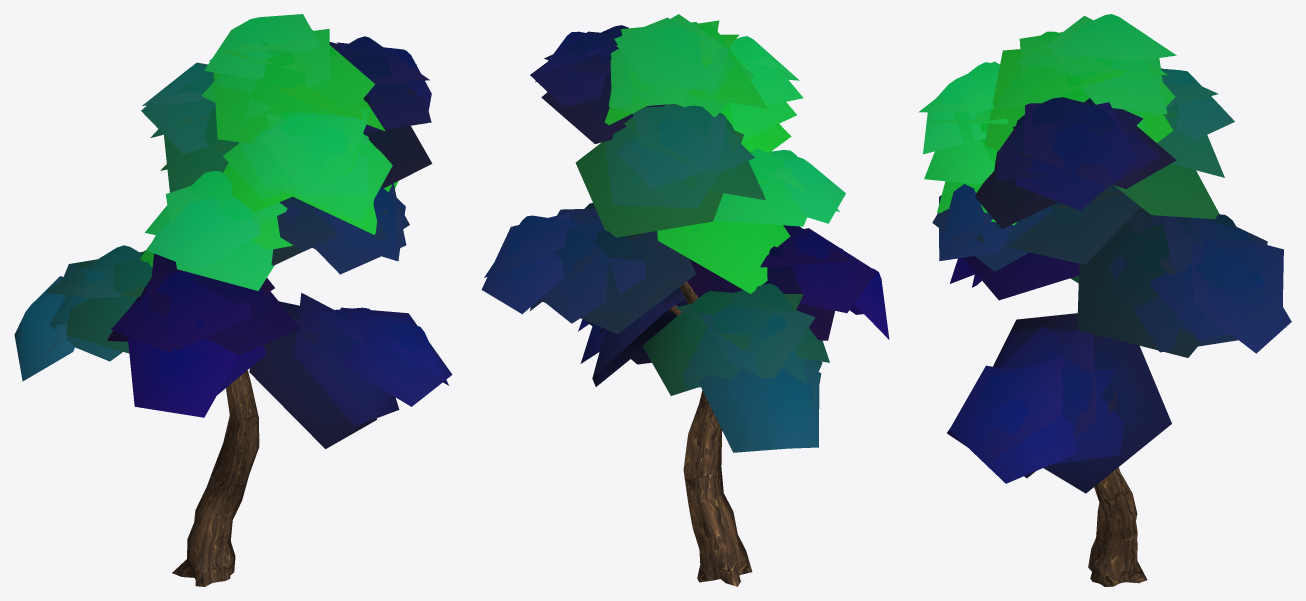
File: FantasyTree15.fbx
3 views of the same model, side by side, from view 1: azimuth 30°, elevation 25°; view 2: azimuth 150°, elevation 25°; view 3: azimuth 270°, elevation 25° (orthographic). The views are drawn at different scales.
Parts seen in each view (by area): view 1: fantasyleaf4_alpha_1, tree2_0; view 2: fantasyleaf4_alpha_1, tree2_0; view 3: fantasyleaf4_alpha_1, tree2_0.
Part boxes in pixels (left/top/right/bottom): fantasyleaf4_alpha_1: left=14, top=14, right=452, bottom=448; tree2_0: left=172, top=370, right=259, bottom=586; fantasyleaf4_alpha_1: left=481, top=14, right=889, bottom=452; tree2_0: left=669, top=281, right=752, bottom=586; fantasyleaf4_alpha_1: left=918, top=14, right=1291, bottom=493; tree2_0: left=1088, top=467, right=1147, bottom=586.
Bounding box in the file's own units: 403 × 599 × 347.
1 material, 1 textured.
